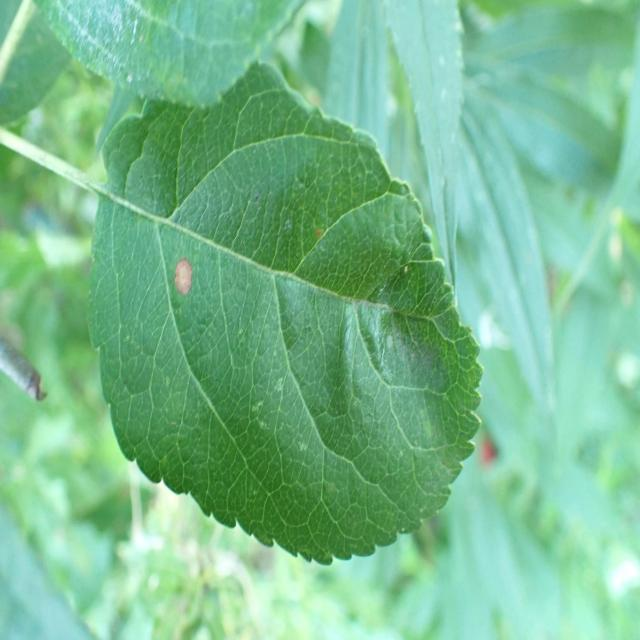Black Rot: (165, 228, 194, 332)
